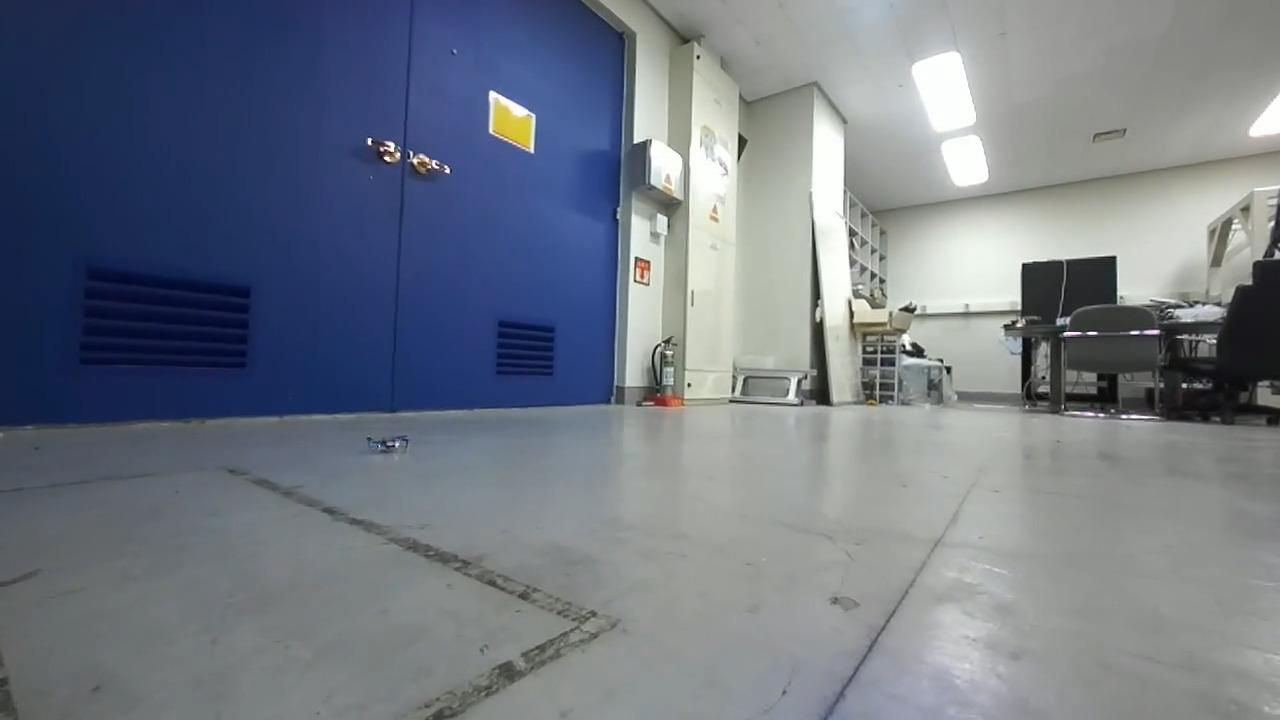crazyflie: (360, 428, 415, 459)
